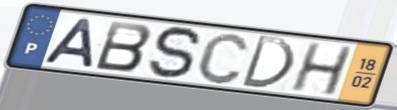A: (39, 16, 96, 69)
B: (93, 18, 155, 73)
C: (194, 30, 252, 86)
D: (237, 33, 296, 91)
H: (287, 41, 355, 98)
S: (146, 25, 204, 81)
